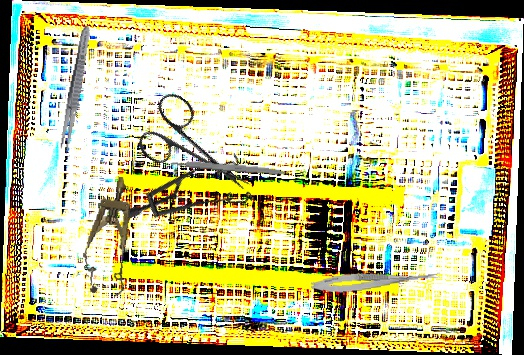Dressing Forceps: (57, 24, 94, 156)
Iris Scissors: (129, 88, 269, 215)
Micro Scissor: (310, 264, 441, 296)
Scalpel Handle: (168, 157, 290, 177)
Speculum: (120, 125, 269, 274), (77, 172, 145, 299)
